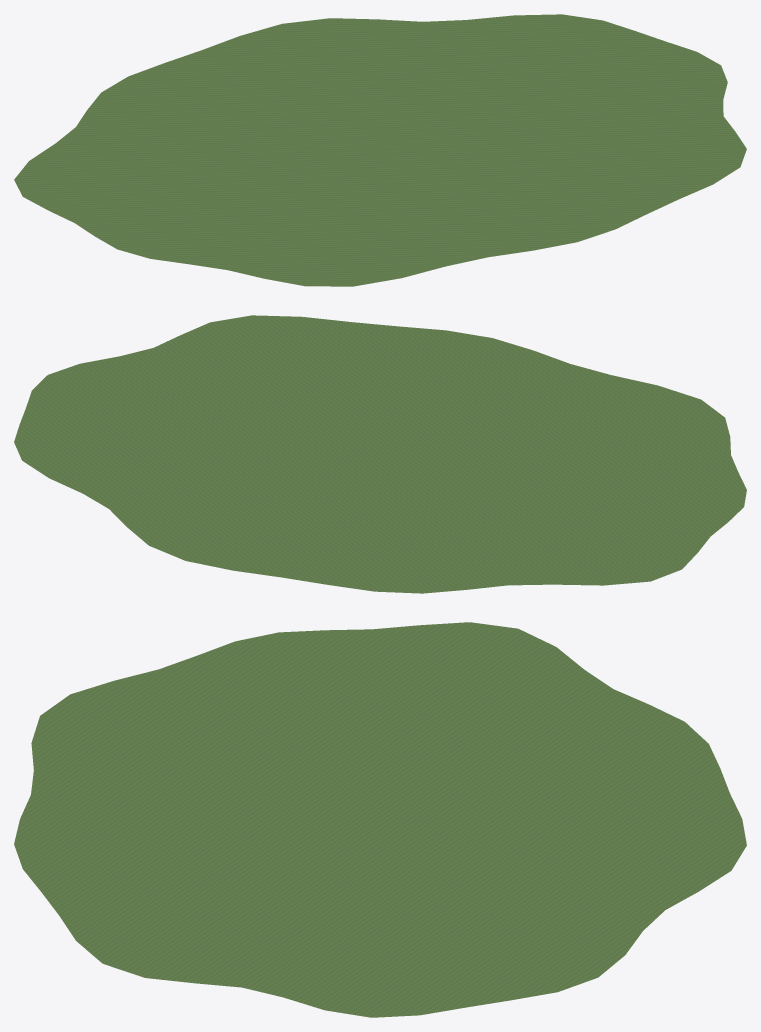
Rendered from Cliff_Middle_Grass.fbx.
3 views of the same model, one above another, from view 1: azimuth 30°, elevation 25°; view 2: azimuth 150°, elevation 25°; view 3: azimuth 270°, elevation 25° (orthographic). The views are drawn at different scales.
Parts seen in each view (by area): view 1: Cliff_Middle_Grass; view 2: Cliff_Middle_Grass; view 3: Cliff_Middle_Grass.
Part boxes in pixels (x1,y1,x2,y2): Cliff_Middle_Grass: [14, 14, 746, 286]; Cliff_Middle_Grass: [14, 315, 746, 593]; Cliff_Middle_Grass: [14, 622, 746, 1017].
Size of the model in its own units: 5133 by 4019 by 0.
